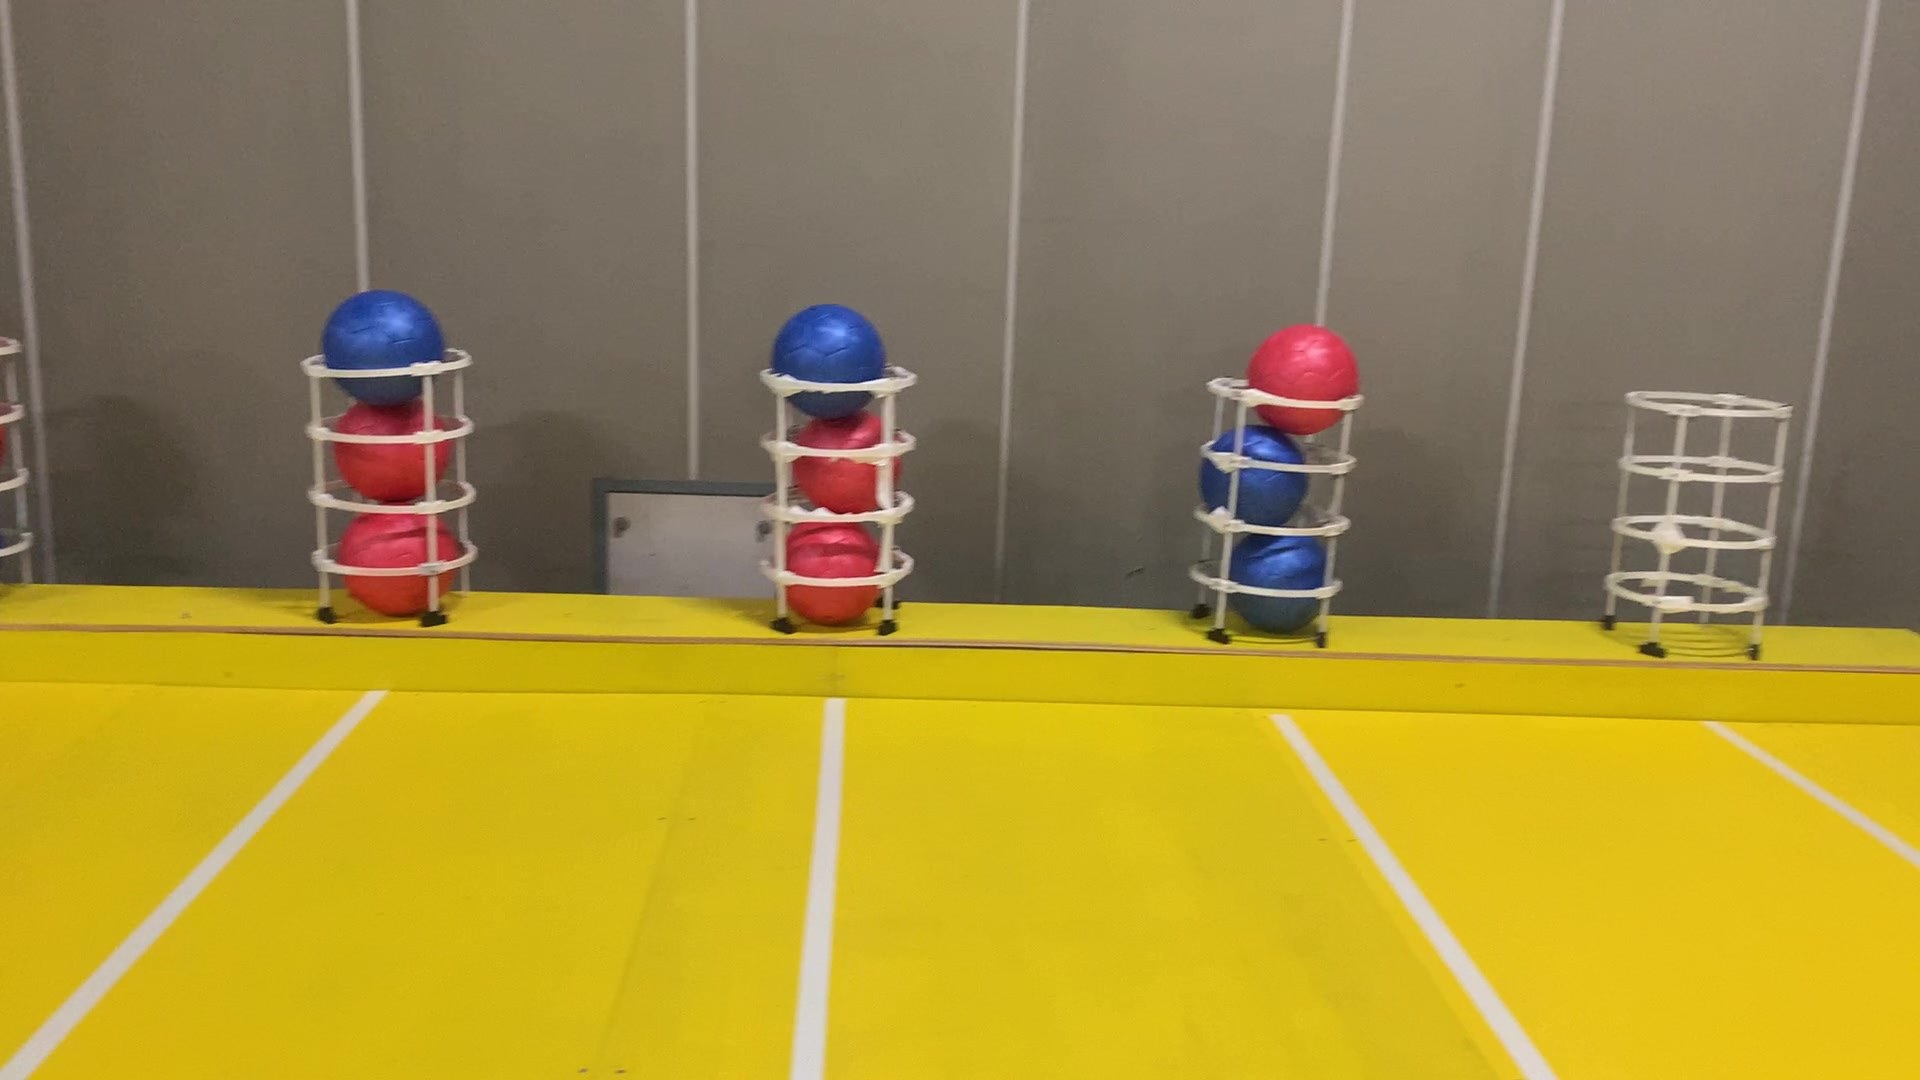blue: (765, 289, 891, 426), (314, 285, 452, 410), (1221, 502, 1345, 634), (1196, 411, 1312, 534)
red: (335, 498, 462, 617), (769, 502, 894, 621), (1245, 316, 1371, 434), (330, 389, 455, 505), (781, 407, 907, 517)
